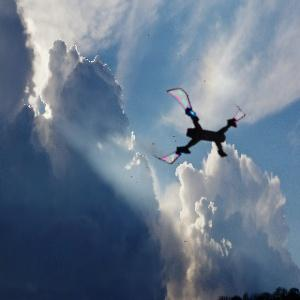drone: (154, 92, 240, 178)
